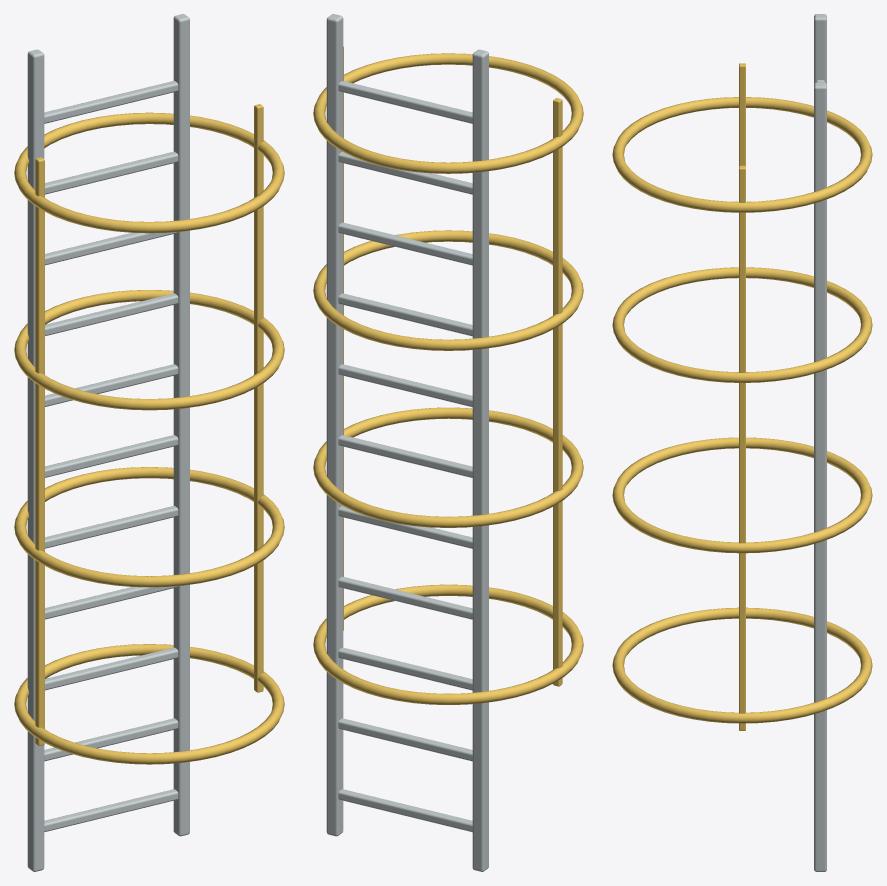
Rendered from hydroelectric-dam-infiltration-ladder-cage-da7b4e6b__29366.glb.
The picture shows the model from 3 angles, left to right: view 1: azimuth 30°, elevation 25°; view 2: azimuth 150°, elevation 25°; view 3: azimuth 270°, elevation 25°; orthographic projection. The views are drawn at different scales.
Parts seen in each view (by area): view 1: ladder-cage; view 2: ladder-cage; view 3: ladder-cage.
Boxes of the visible parts, x1,y1,x2,y2 form: ladder-cage: [14, 14, 284, 871]; ladder-cage: [313, 14, 583, 871]; ladder-cage: [612, 14, 872, 871].
Bounding box in the file's own units: 0.9 × 3 × 0.9.
